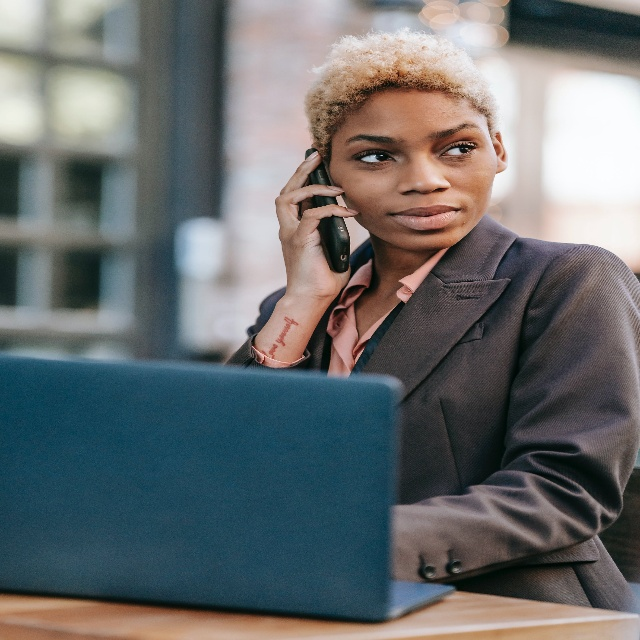Sin_guantes: (274, 149, 360, 302)
